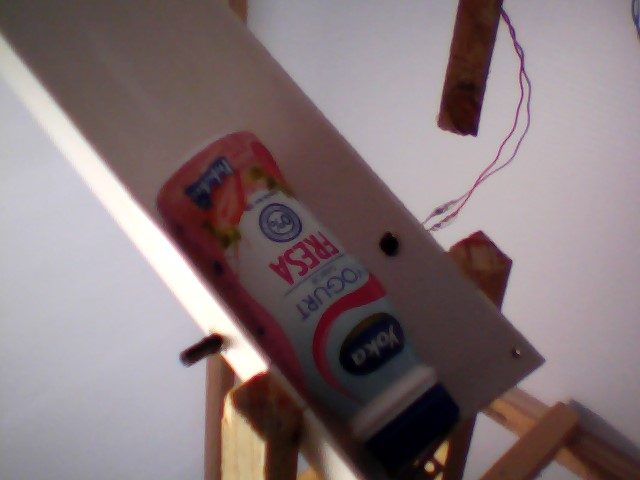plastico: (151, 118, 469, 480)
